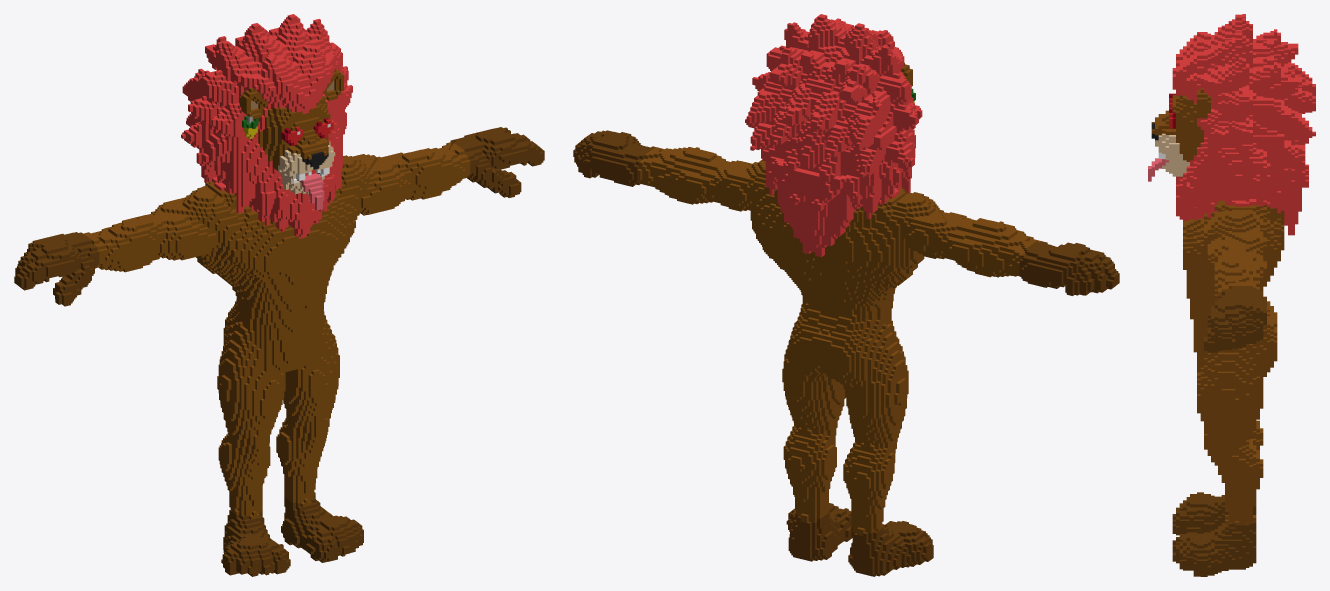
Rendered from 683-Cy8Ivd5u.glb.
3 renders of one model, left to right at view 1: azimuth 30°, elevation 25°; view 2: azimuth 150°, elevation 25°; view 3: azimuth 270°, elevation 25°, orthographic. The views are drawn at different scales.
Visible parts, largest first — view 1: tongue_out; view 2: tongue_out; view 3: tongue_out.
Boxes of the visible parts, bbox=[...] form: tongue_out: bbox=[14, 14, 544, 576]; tongue_out: bbox=[573, 14, 1119, 576]; tongue_out: bbox=[1148, 14, 1315, 576].
Bounding box in the file's own units: 17.2 × 16.5 × 4.8.
Materials: 5 (5 with a texture image).
